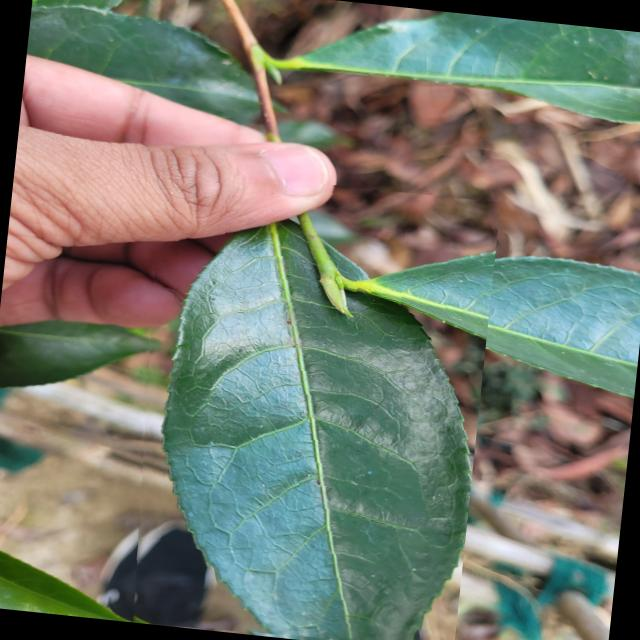Category D(7+ days, Not for Tea): (113, 166, 501, 640)
